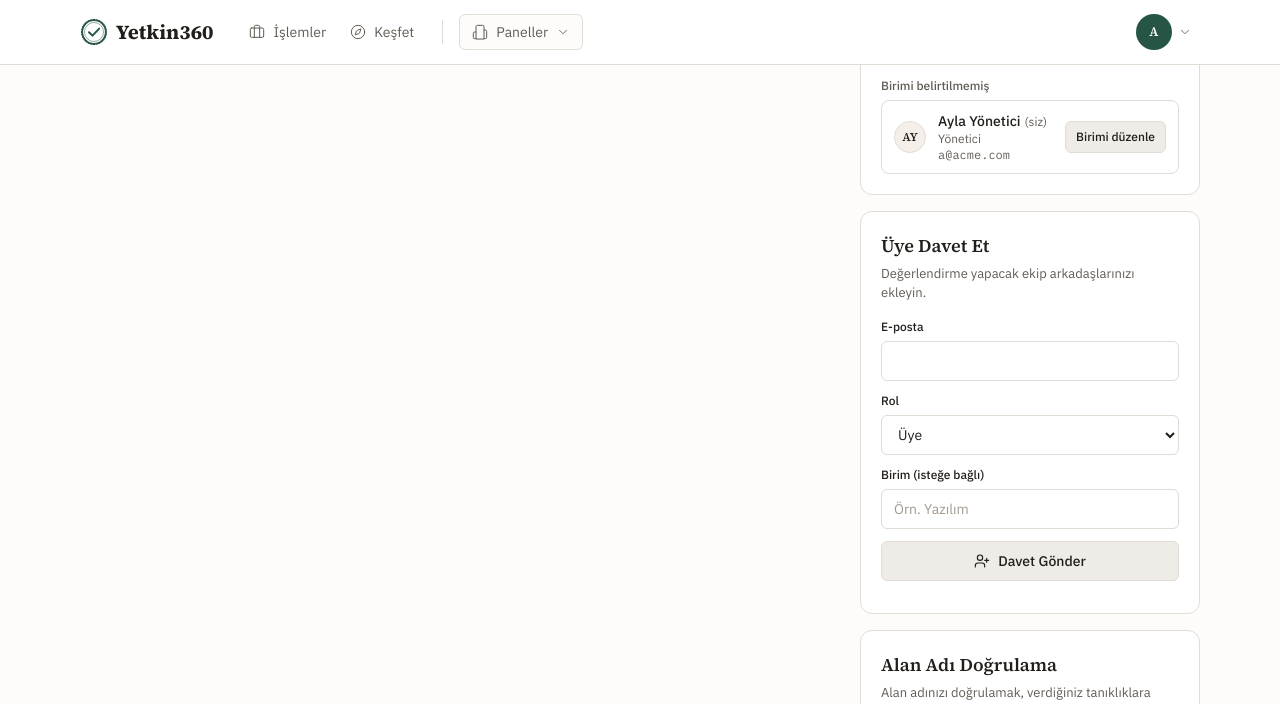
Test case: KurulusPanelPage (/kurulus/[id]/panel) › Üye davet bölümü › davet başarısız olursa hata mesajı gösterilir
(page scrolled)
Type "x@test.com" into the field labelled "E-posta" at (1030, 360), box [881,340,1179,380]
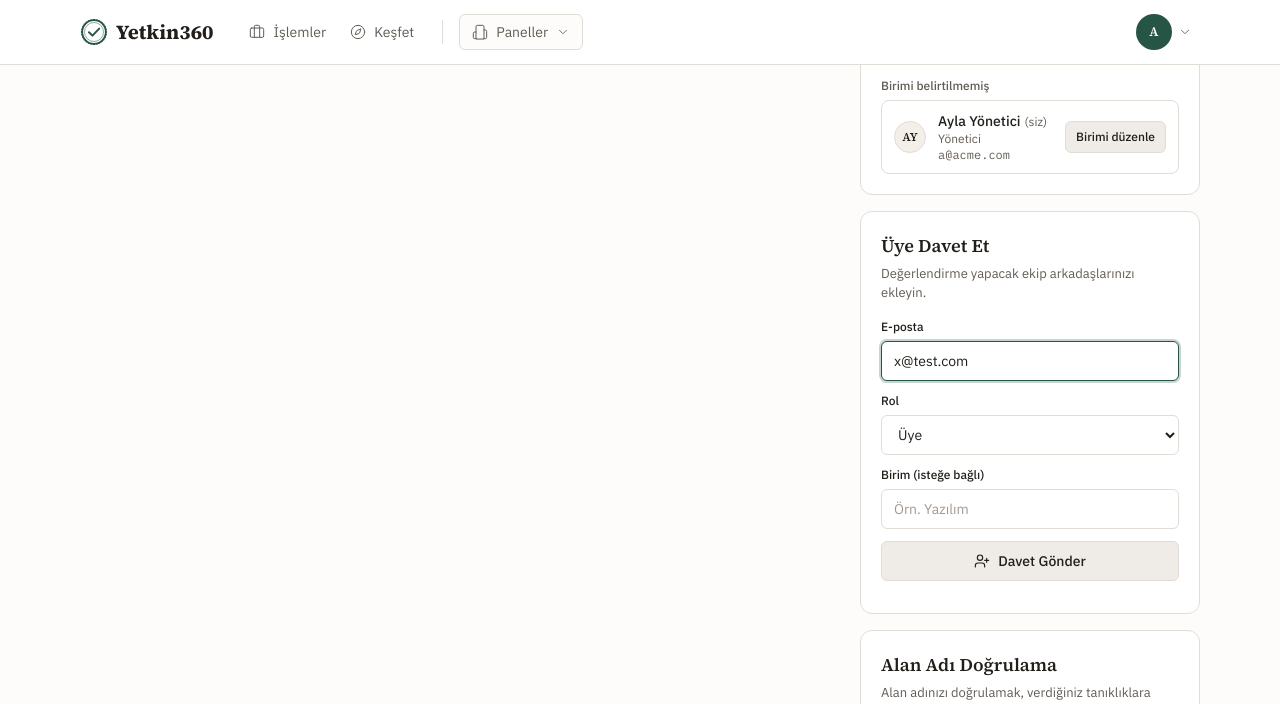
Click the button "Davet Gönder" at (1030, 560), box [881,540,1179,580]
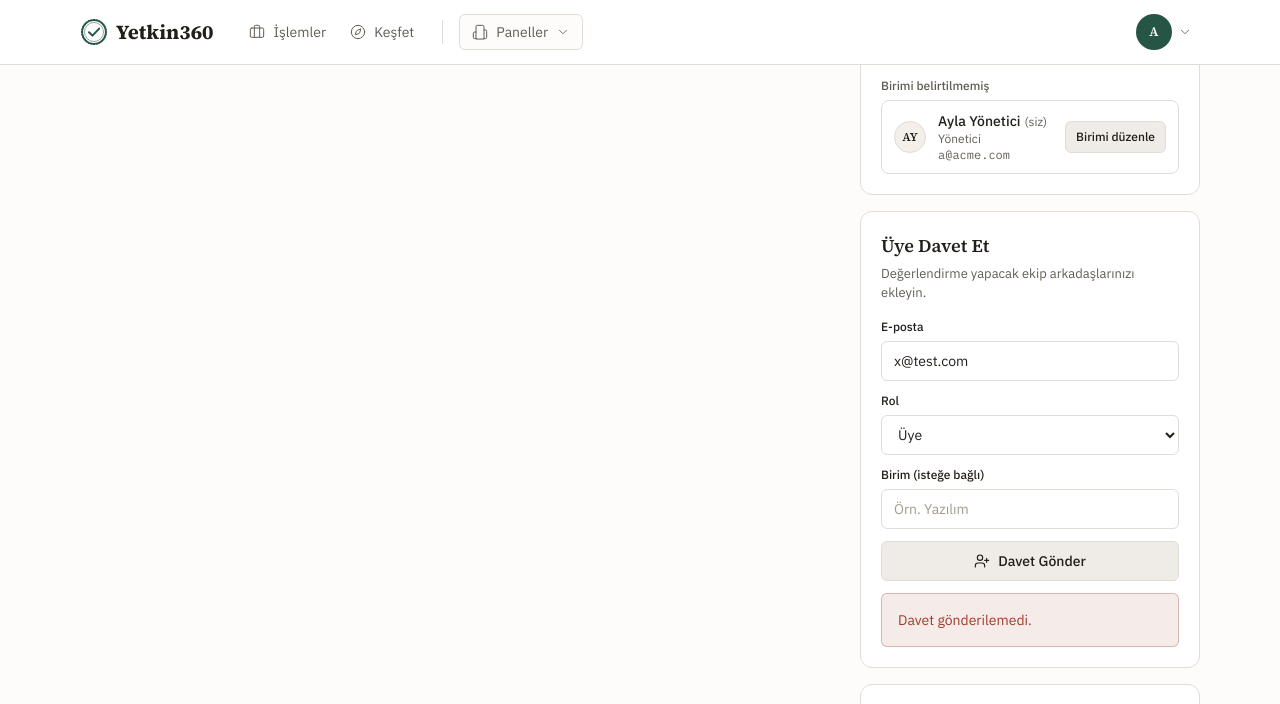
Now the text "Davet gönderilemedi." is shown, box [881,592,1179,646]
